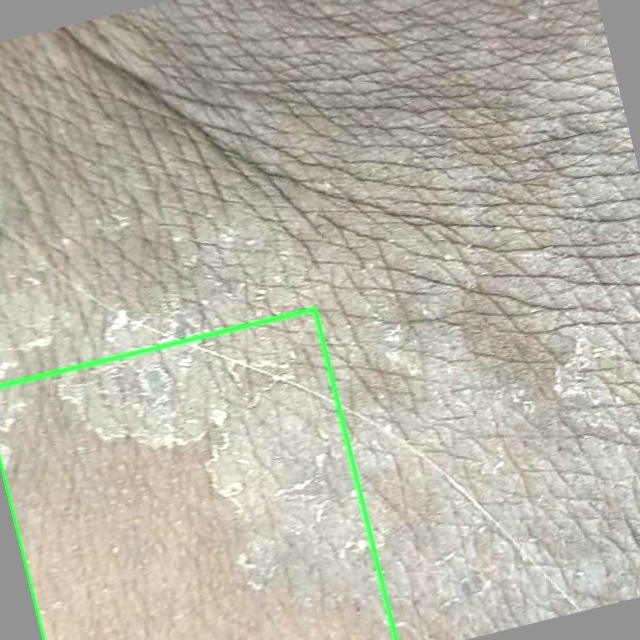Eczema: (0, 309, 396, 639)
